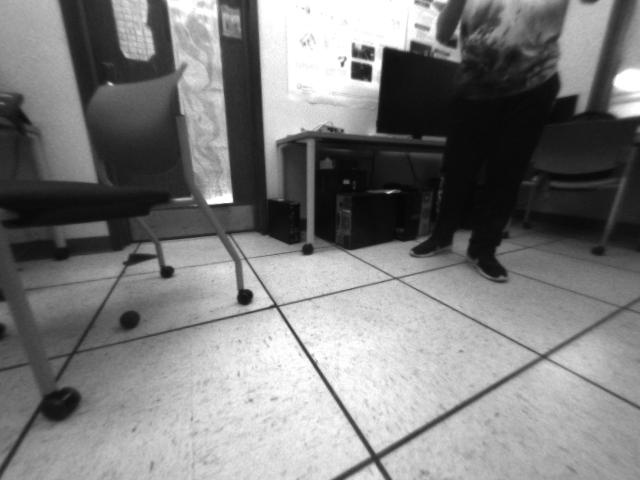dogtoy: (113, 304, 149, 334)
